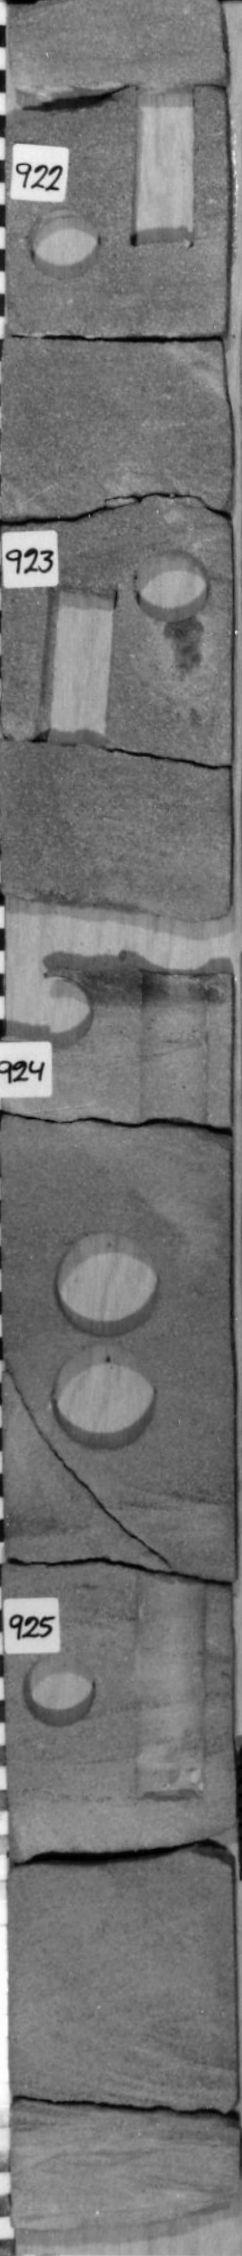hplug: (130, 540, 218, 632), (17, 1645, 104, 1737), (22, 199, 112, 282), (10, 973, 94, 1059)
scal: (45, 1342, 166, 1459), (50, 1232, 166, 1345)
vplug: (122, 1561, 212, 1809), (32, 573, 125, 750), (130, 968, 219, 1140), (124, 81, 203, 255)
